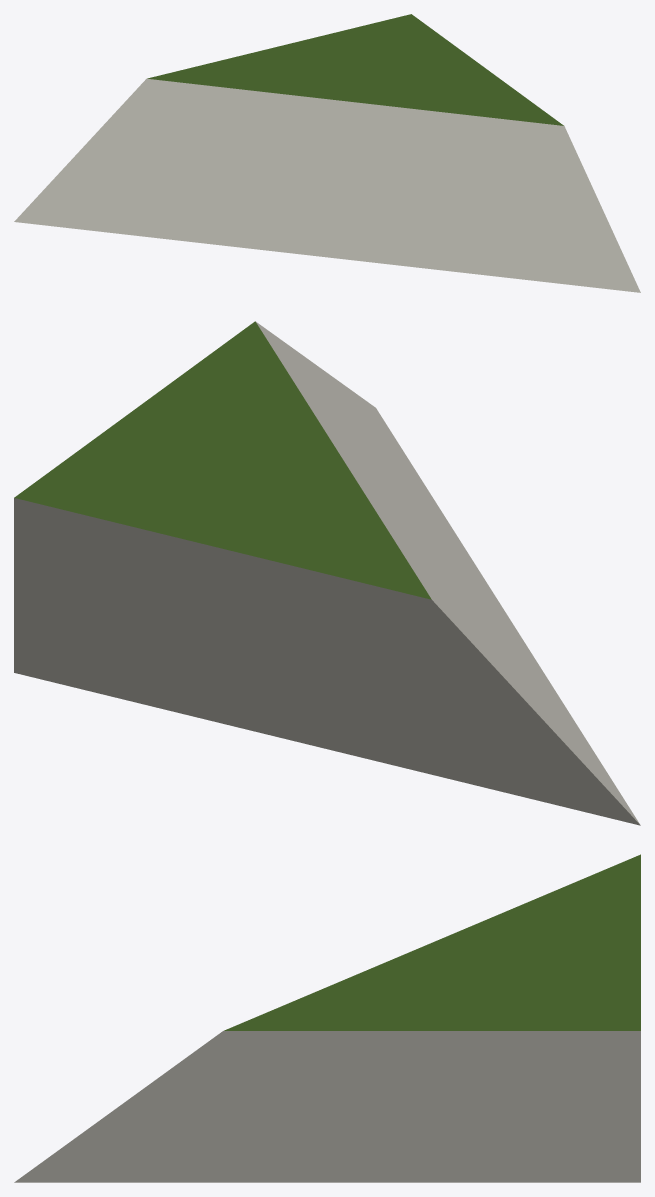
File: Terrain_Modular_Tiles_Grass_Rock_Cliff_Edge_Corner_Inner_01.fbx
The picture shows the model from 3 angles, top to bottom: view 1: azimuth 30°, elevation 25°; view 2: azimuth 150°, elevation 25°; view 3: azimuth 270°, elevation 25°; orthographic projection. The views are drawn at different scales.
Parts seen in each view (by area): view 1: Terrain_Modular_Tiles_Grass_Rock_Cliff_Edge_Corner_Inner_01; view 2: Terrain_Modular_Tiles_Grass_Rock_Cliff_Edge_Corner_Inner_01; view 3: Terrain_Modular_Tiles_Grass_Rock_Cliff_Edge_Corner_Inner_01.
Part boxes in pixels (x1,y1,x2,y2): Terrain_Modular_Tiles_Grass_Rock_Cliff_Edge_Corner_Inner_01: [14, 14, 640, 292]; Terrain_Modular_Tiles_Grass_Rock_Cliff_Edge_Corner_Inner_01: [14, 321, 640, 825]; Terrain_Modular_Tiles_Grass_Rock_Cliff_Edge_Corner_Inner_01: [14, 854, 640, 1182].
Bounding box in the file's own units: 1125 × 300 × 1125.
